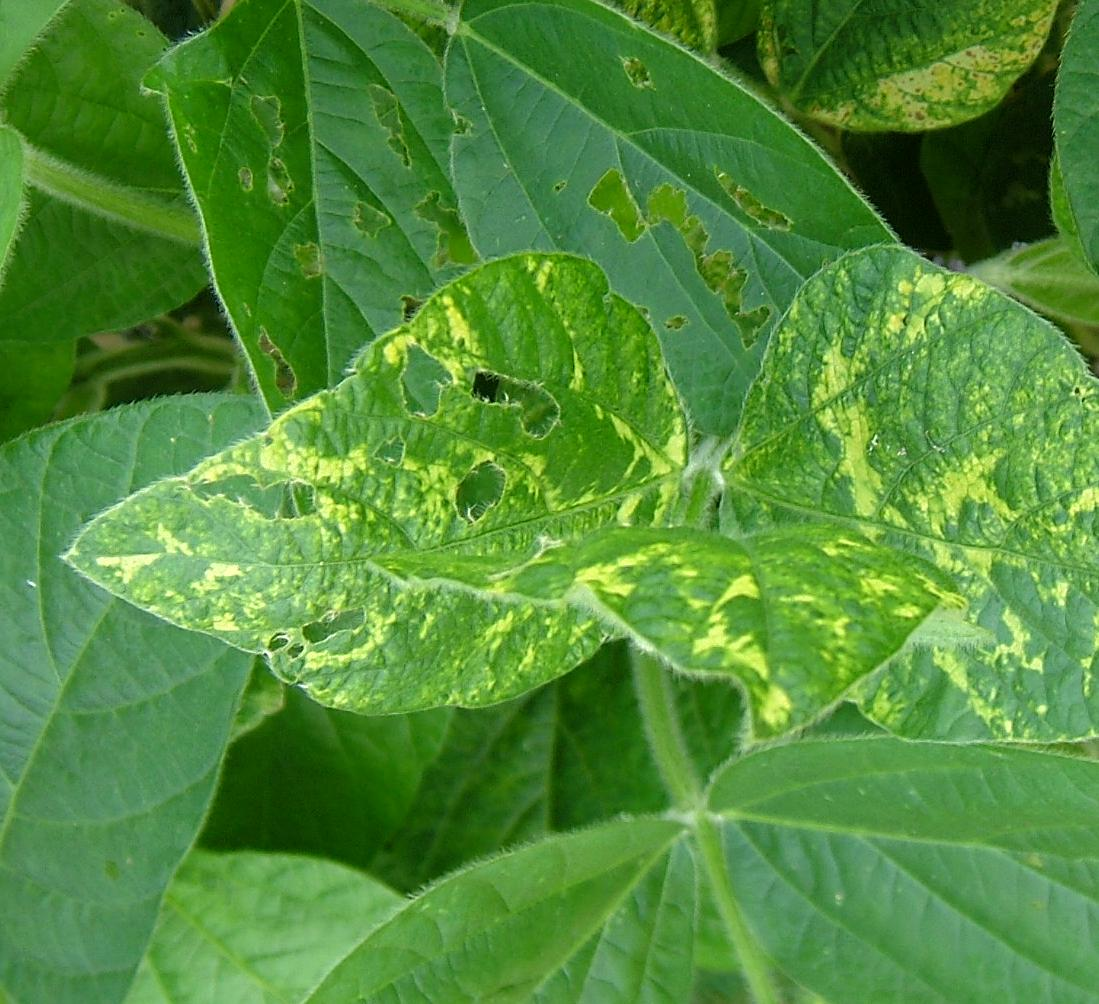Tomato leaf: (706, 731, 1099, 1004)
Tomato leaf mosaic virus: (61, 244, 688, 741), (730, 261, 1099, 721)
